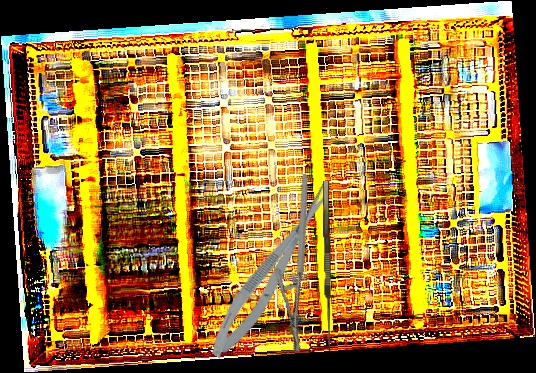Hook Surgical: (322, 180, 341, 352)
Micro Scissor: (200, 179, 344, 365)
Needle Holder: (239, 173, 364, 355)
